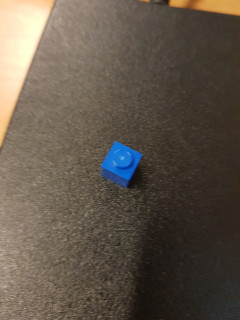1x1 blue: (98, 138, 144, 192)
